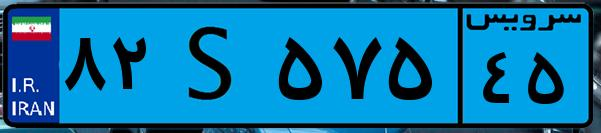2: (110, 28, 158, 98)
4: (475, 38, 525, 113)
5: (270, 28, 330, 110), (385, 28, 445, 110), (525, 38, 570, 115)
7: (330, 28, 385, 110)
8: (57, 26, 110, 100)
S: (158, 12, 270, 120)
